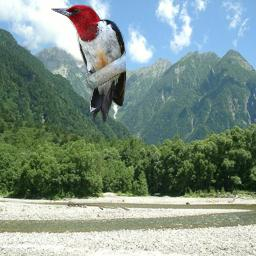Woodpecker: (51, 4, 126, 124)
